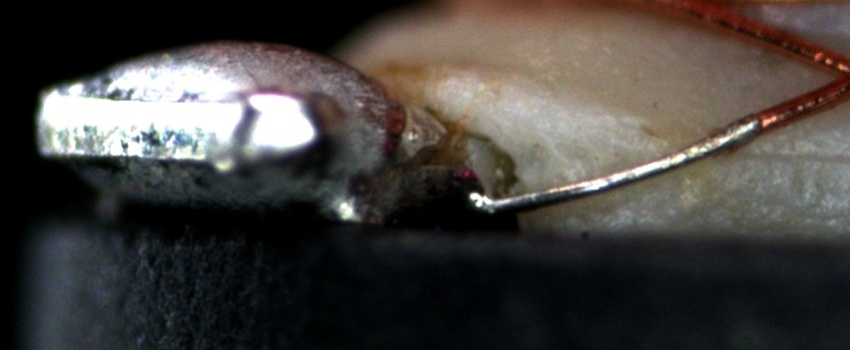CL: (806, 41, 850, 107)
DL: (693, 126, 849, 190)
TS: (474, 113, 765, 214)
